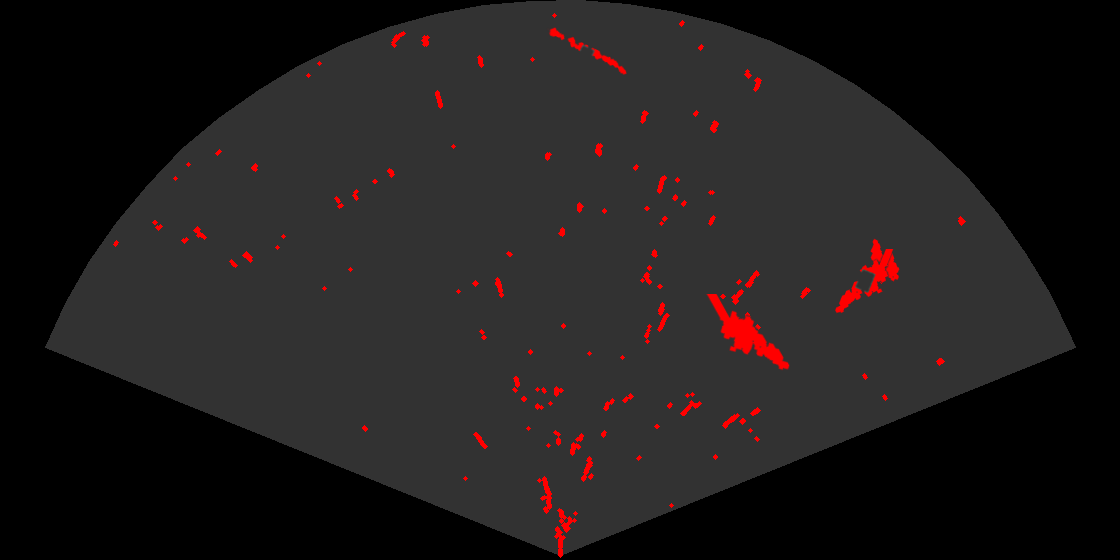AUV: (869, 237, 901, 283)
chain: (546, 26, 628, 76)
frogman: (706, 294, 791, 372), (834, 249, 895, 315)
